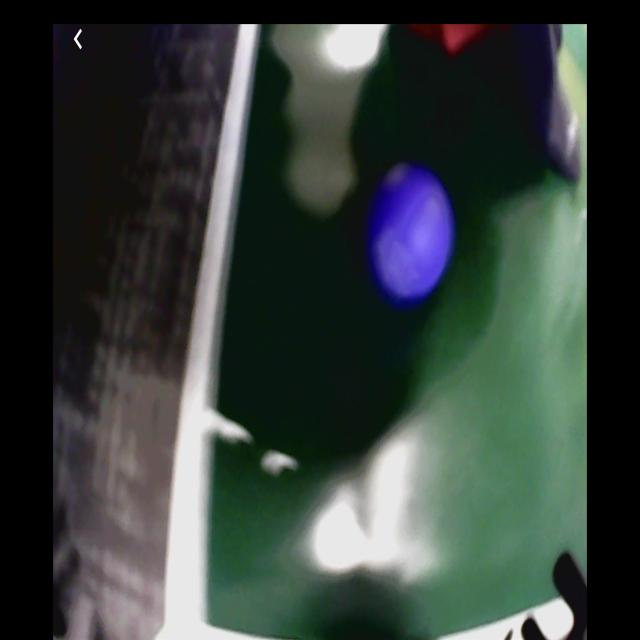ball: (367, 161, 455, 307)
